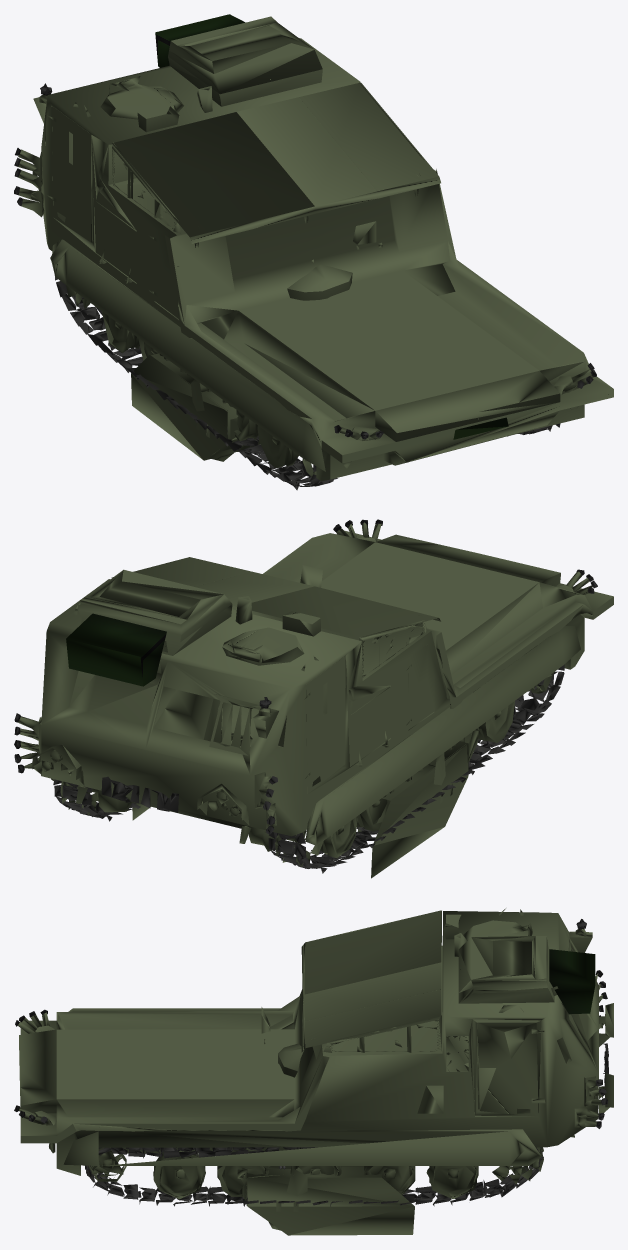
File: rapier_lo.glb
3 renders of one model, top to bottom at view 1: azimuth 30°, elevation 25°; view 2: azimuth 150°, elevation 25°; view 3: azimuth 270°, elevation 25°, orthographic. The views are drawn at different scales.
Parts seen in each view (by area): view 1: body|Base#camo, body|flat#camo, cradle|Base#camo, body|Tracks, turret|Base#camo, body|Front#camo, body|rubber_cap; view 2: body|Base#camo, body|flat#camo, body|Tracks, cradle|Base#camo, body|Front#camo, body|rubber_cap, turret|Base#camo, body|glass; view 3: body|Base#camo, cradle|Base#camo, body|flat#camo, body|Base.001#camo, body|Tracks, body|Front#camo, body|rubber_cap, turret|Base#camo.
Part boxes in pixels (<box>): body|Base#camo: <box>18,16,613,481</box>; body|flat#camo: <box>66,246,305,457</box>; cradle|Base#camo: <box>131,353,260,461</box>; body|Tracks: <box>54,275,560,490</box>; turret|Base#camo: <box>287,259,352,300</box>; body|Front#camo: <box>155,14,245,67</box>; body|rubber_cap: <box>14,83,596,439</box>; body|Base#camo: <box>18,522,613,866</box>; body|flat#camo: <box>325,630,563,837</box>; body|Tracks: <box>53,664,564,873</box>; cradle|Base#camo: <box>132,741,468,878</box>; body|Front#camo: <box>66,613,166,686</box>; body|rubber_cap: <box>14,519,597,834</box>; turret|Base#camo: <box>220,704,258,744</box>; body|glass: <box>203,699,222,742</box>; body|Base#camo: <box>18,908,613,1199</box>; cradle|Base#camo: <box>239,1166,414,1235</box>; body|flat#camo: <box>102,1131,509,1165</box>; body|Base.001#camo: <box>477,1022,538,1116</box>; body|Tracks: <box>85,1043,608,1206</box>; body|Front#camo: <box>549,949,595,1014</box>; body|rubber_cap: <box>14,919,607,1128</box>; turret|Base#camo: <box>278,1043,304,1077</box>.
Size of the model in its own units: 2.85 by 2.83 by 6.25.
Materials: 23 (2 with a texture image).
